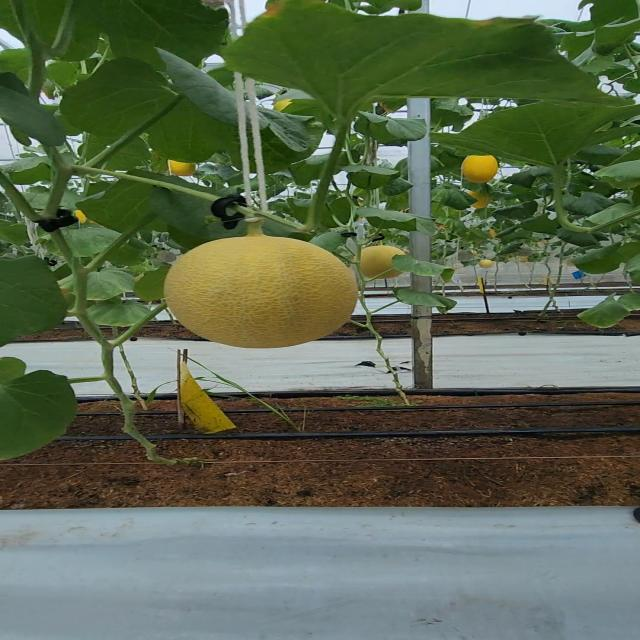Melon: (158, 226, 367, 354)
